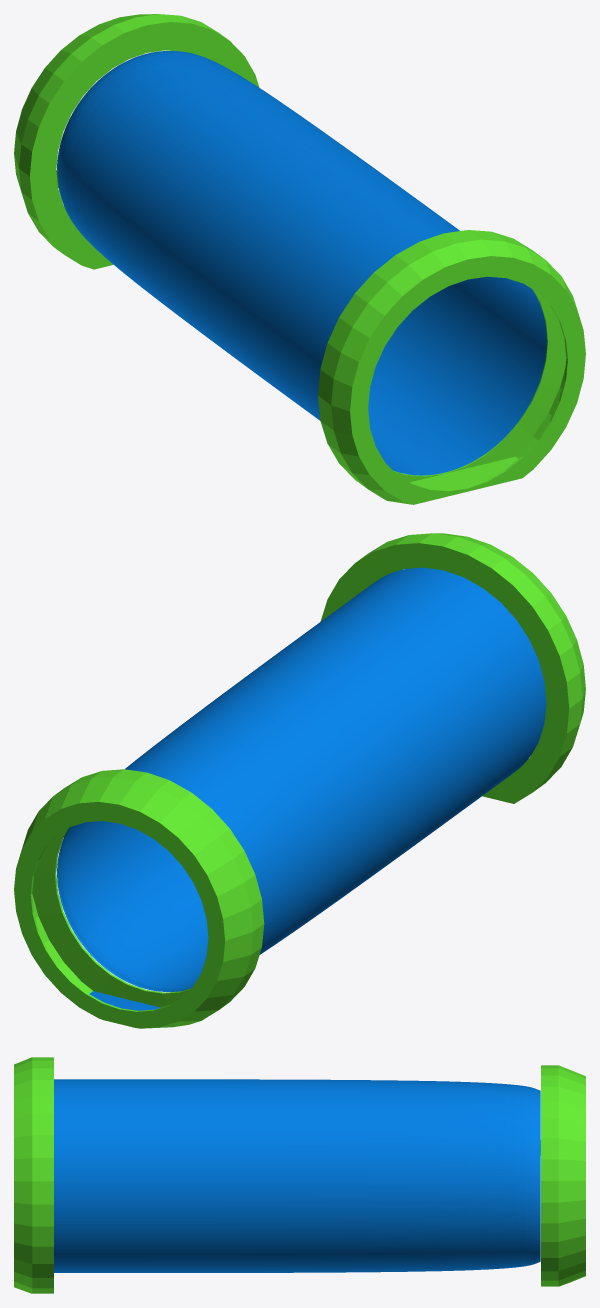
Rendered from TUBO.fbx.
3 renders of one model, top to bottom at view 1: azimuth 30°, elevation 25°; view 2: azimuth 150°, elevation 25°; view 3: azimuth 270°, elevation 25°, orthographic. The views are drawn at different scales.
Parts seen in each view (by area): view 1: Cylinder.001; view 2: Cylinder.001; view 3: Cylinder.001.
Part boxes in pixels (left/top/right/bottom): Cylinder.001: left=14, top=14, right=585, bottom=504; Cylinder.001: left=14, top=533, right=585, bottom=1028; Cylinder.001: left=14, top=1057, right=585, bottom=1293.
Bounding box in the file's own units: 438 × 401 × 1053.
